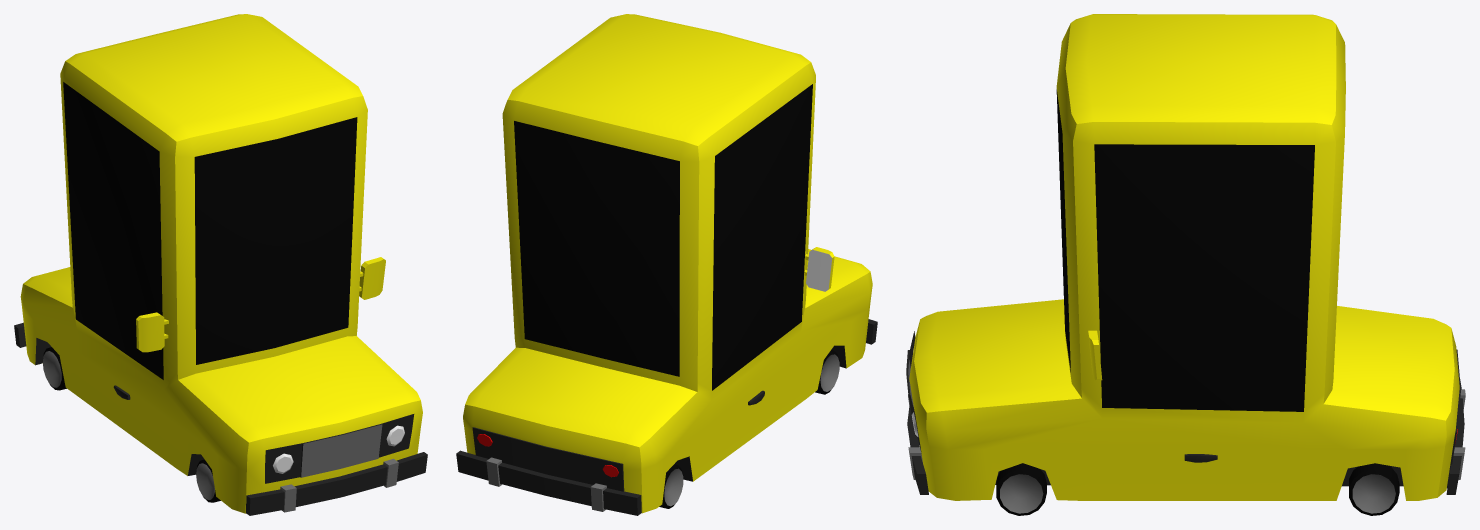
The picture shows the model from 3 angles, left to right: view 1: azimuth 30°, elevation 25°; view 2: azimuth 150°, elevation 25°; view 3: azimuth 270°, elevation 25°; orthographic projection. The views are drawn at different scales.
Parts seen in each view (by area): view 1: Cube, Cube.001, Cube.002, Cylinder.003, Cylinder.002; view 2: Cube, Cube.001, Cube.002, Cylinder.003, Cylinder.002; view 3: Cube, Cube.001, Cylinder.001, Cylinder.
Boxes of the visible parts, bbox=[...] form: Cube: bbox=[20, 14, 422, 513]; Cube.001: bbox=[14, 322, 427, 515]; Cube.002: bbox=[136, 257, 385, 352]; Cylinder.003: bbox=[42, 347, 66, 390]; Cylinder.002: bbox=[196, 459, 220, 502]; Cube: bbox=[463, 14, 872, 513]; Cube.001: bbox=[456, 319, 877, 515]; Cube.002: bbox=[804, 247, 834, 291]; Cylinder.003: bbox=[659, 464, 683, 508]; Cylinder.002: bbox=[815, 350, 839, 394]; Cube: bbox=[909, 14, 1459, 500]; Cube.001: bbox=[906, 331, 1465, 494]; Cylinder.001: bbox=[1349, 463, 1399, 515]; Cylinder: bbox=[996, 463, 1046, 515].
Size of the model in its own units: 148 by 202 by 252.
Materials: 1 (1 with a texture image).
